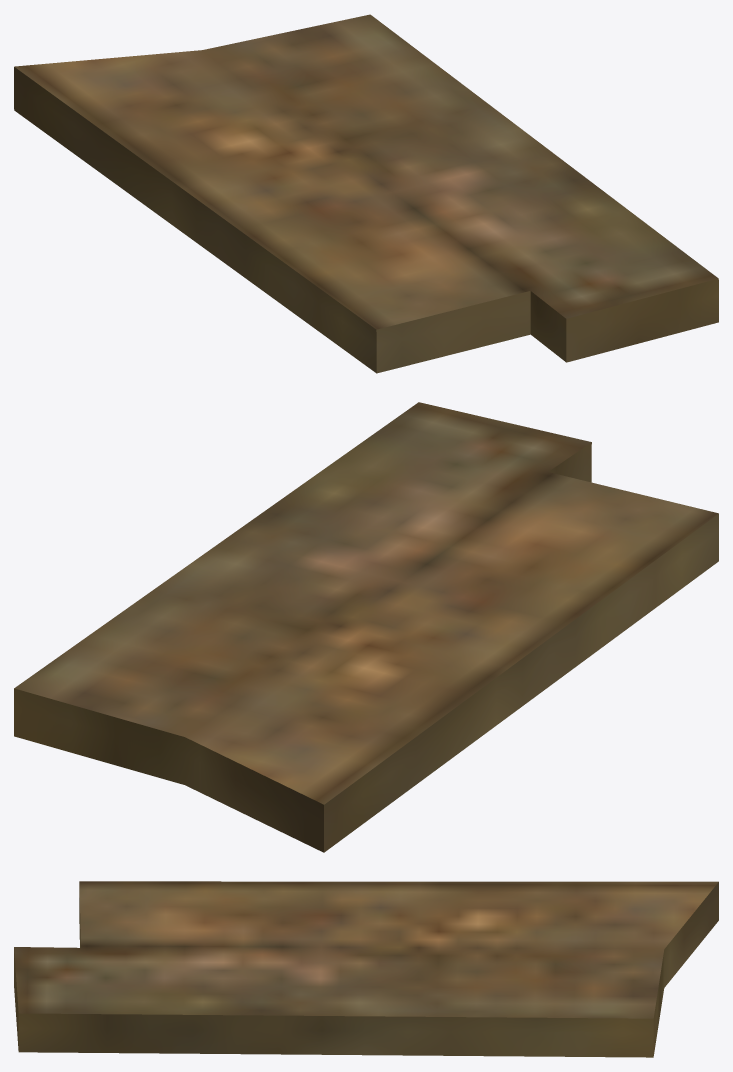
3 renders of one model, top to bottom at view 1: azimuth 30°, elevation 25°; view 2: azimuth 150°, elevation 25°; view 3: azimuth 270°, elevation 25°, orthographic. The views are drawn at different scales.
Visible parts, largest first — view 1: WoodDecor05; view 2: WoodDecor05; view 3: WoodDecor05.
Part boxes in pixels (x1,y1,x2,y2): WoodDecor05: (14, 14, 718, 373); WoodDecor05: (14, 402, 718, 852); WoodDecor05: (14, 881, 718, 1057).
Size of what is drawn, in the model's own units: 0.3816 by 0.0524 by 0.8234.
Materials: 1 (1 with a texture image).
